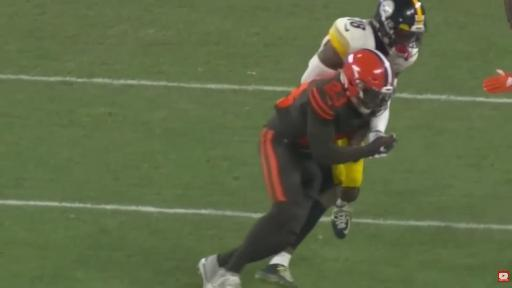Helmet: (342, 49, 394, 114), (374, 0, 426, 49)
Jersey: (267, 73, 369, 146), (321, 18, 418, 73)
Player: (199, 50, 395, 287), (302, 0, 426, 82), (483, 70, 511, 93)
